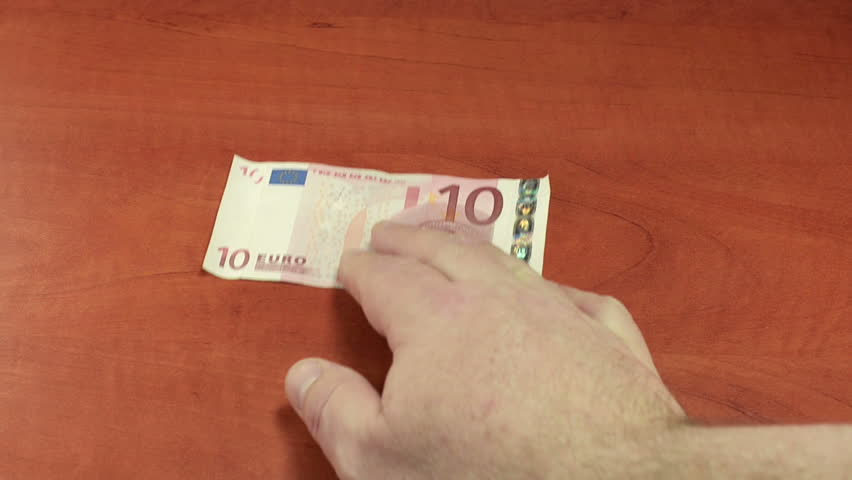billete: (198, 152, 554, 291)
